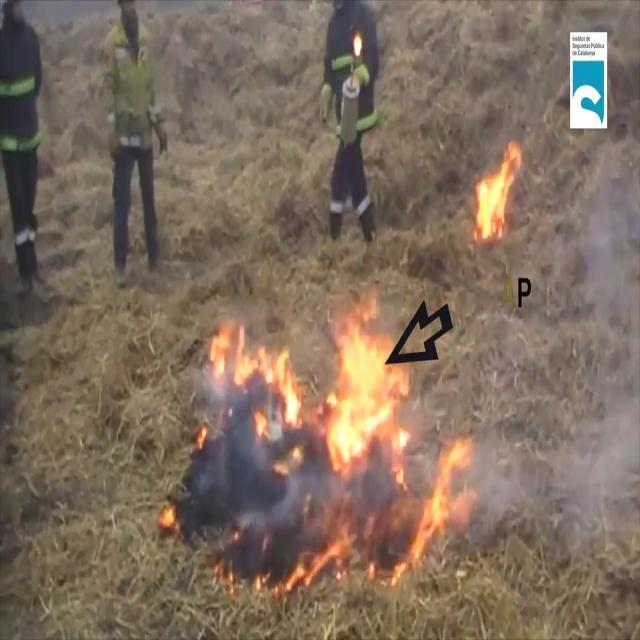Fire: (200, 303, 412, 497), (376, 436, 478, 578), (471, 138, 524, 242)
Smoke: (481, 406, 640, 578), (544, 132, 640, 375)
